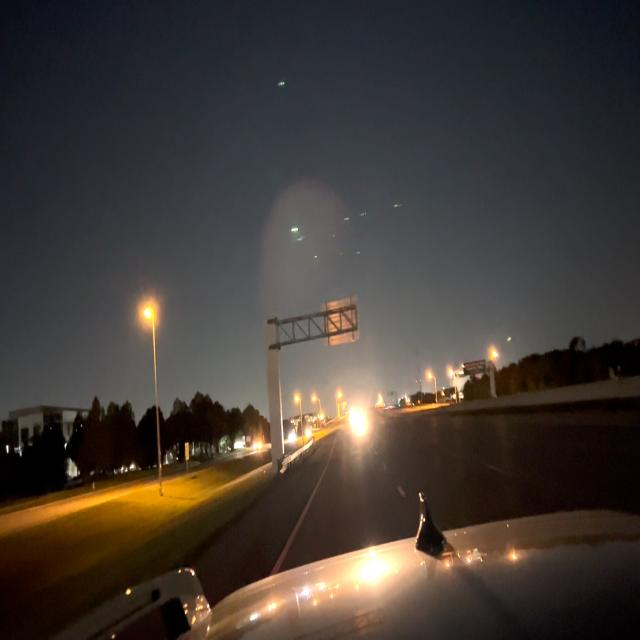back-of-sign: (319, 297, 359, 349)
